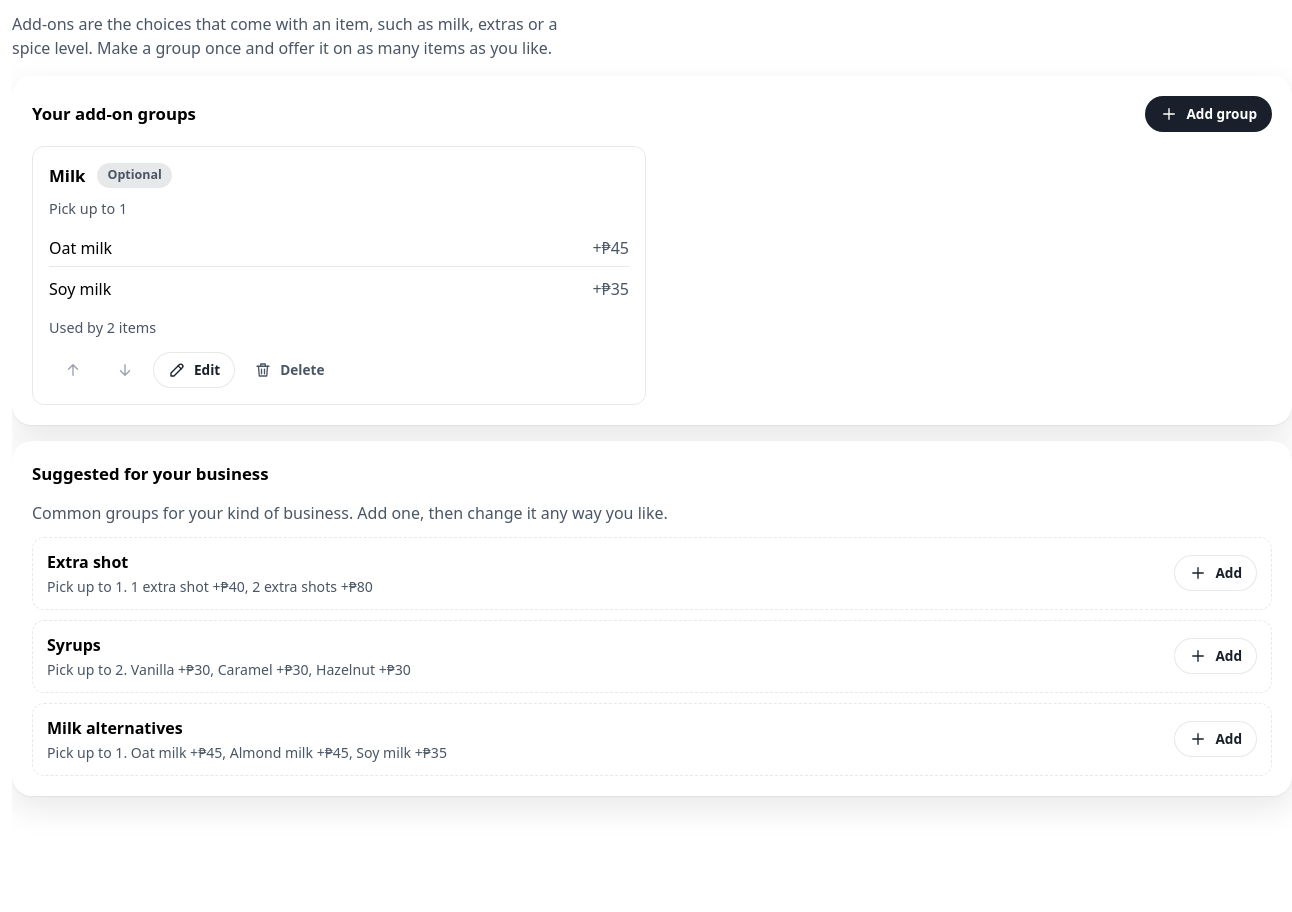
Test: suggestions › says why when adding a suggestion fails, and adds nothing
The width and height of the screenshot is (1292, 912).
Step 1. Click the button with aria-label "Add the Syrups group" → (1216, 656), box x1=1174 y1=638 x2=1257 y2=674
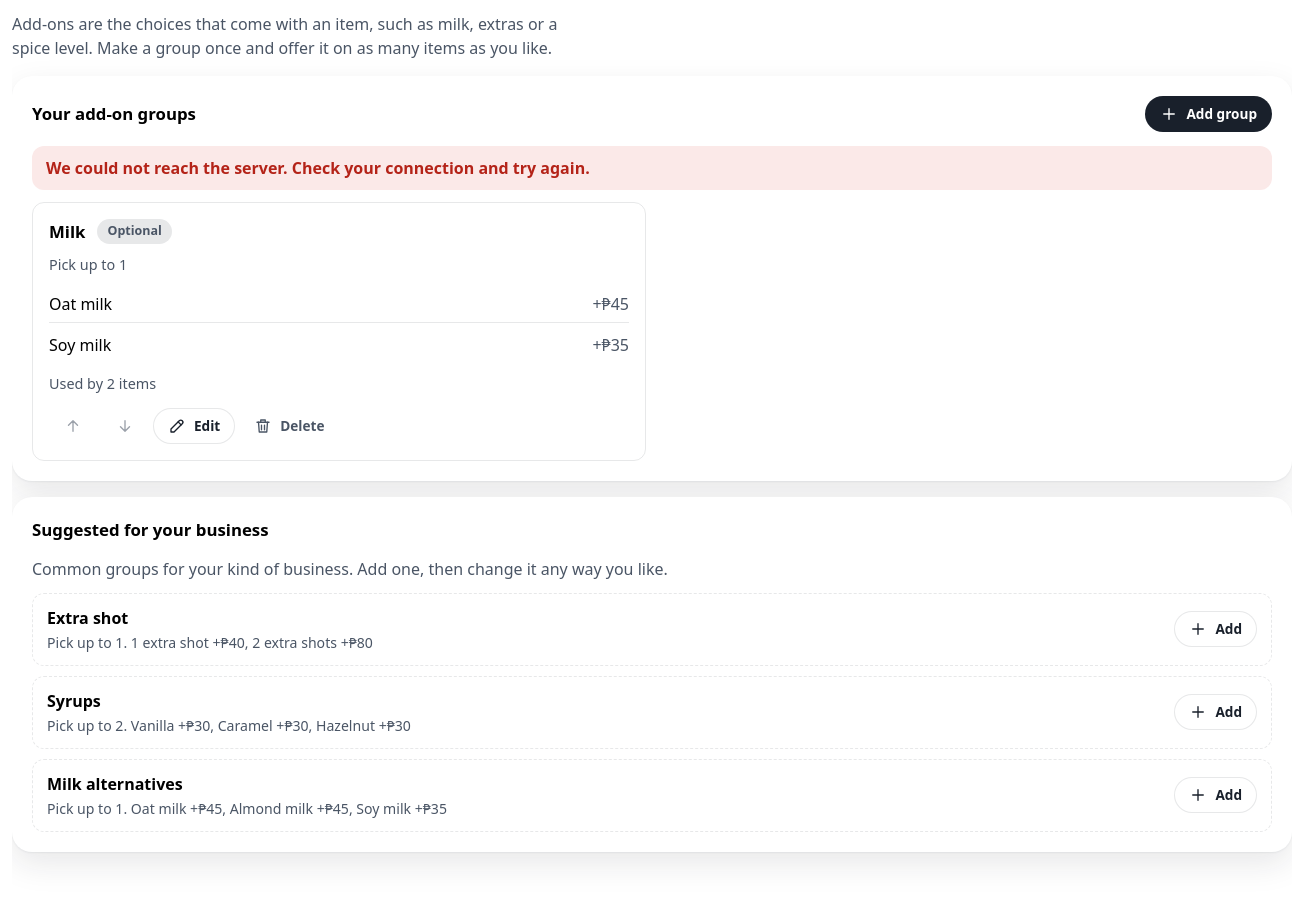
Expected: the button with aria-label "Add the Syrups group" is enabled, x1=1174 y1=694 x2=1257 y2=730
Result: the message reads "We could not reach the server. Check your connection and try again." at x1=46 y1=157 x2=590 y2=179
